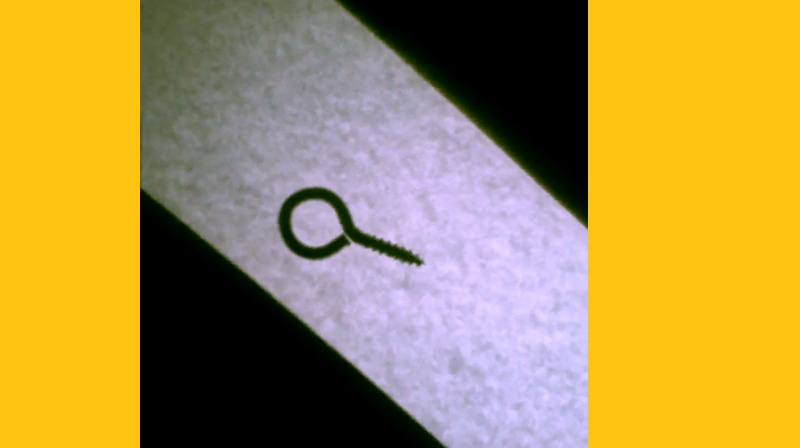O001: (275, 180, 427, 268)
